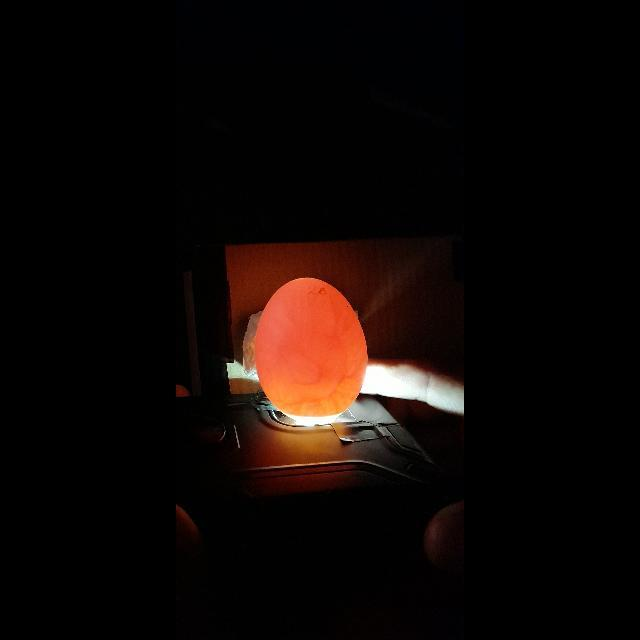Fertile: (255, 275, 368, 417)
